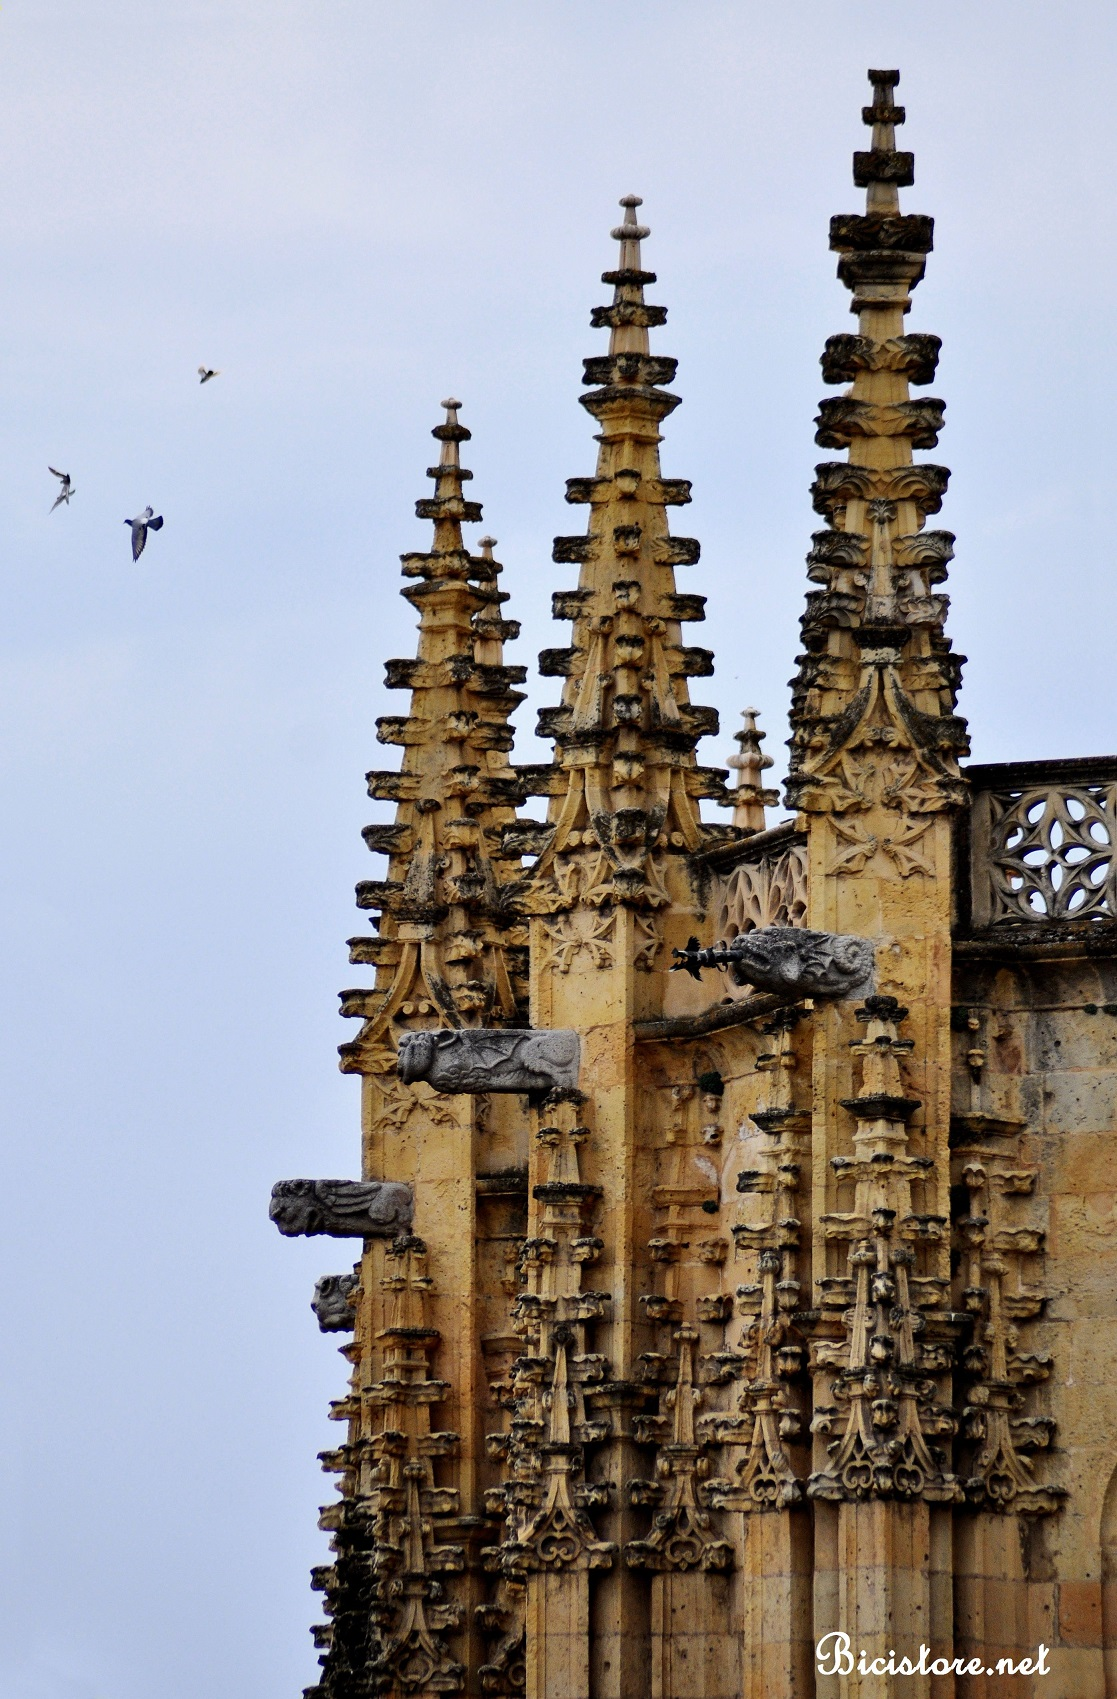pinaculo-gotico: (329, 386, 534, 1071), (789, 57, 979, 767), (526, 183, 726, 831)
